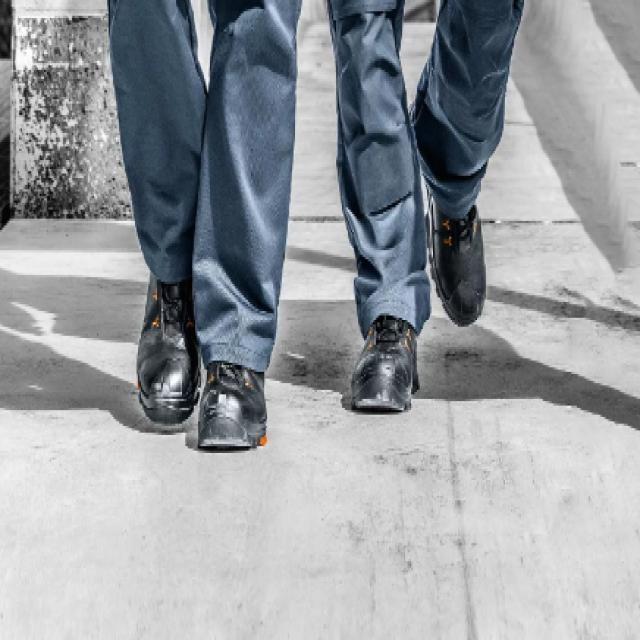boots: (336, 90, 495, 417), (132, 224, 278, 458)
